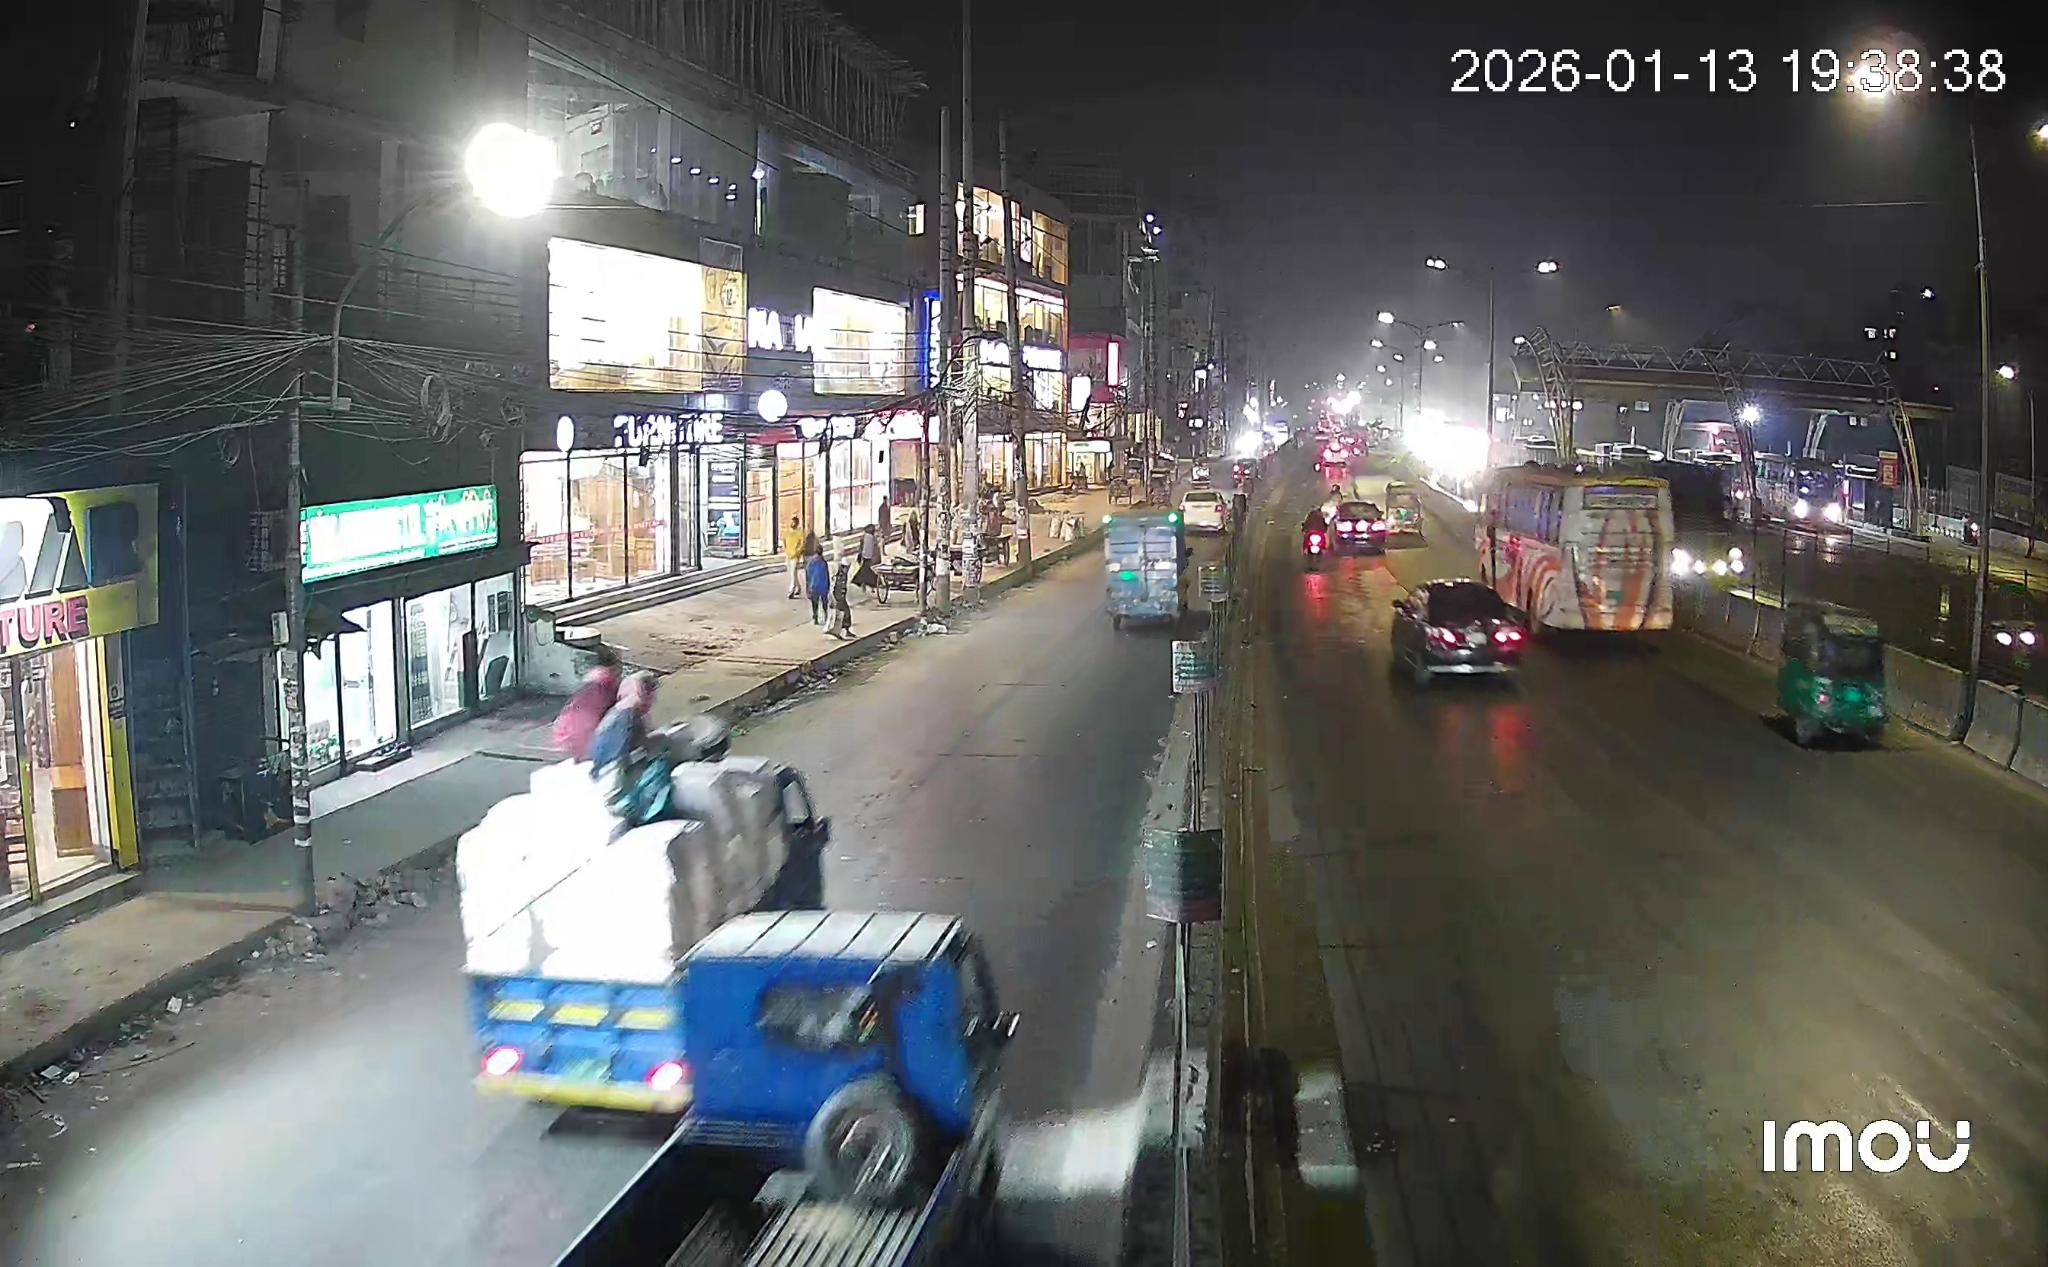Bus: (1473, 467, 1676, 633)
CNG-Tempo: (1763, 601, 1889, 746), (1387, 483, 1431, 541)
Private-Sedan Car: (1390, 578, 1527, 688), (1322, 499, 1391, 552)
Truck: (456, 756, 1017, 1267), (1103, 508, 1188, 628)
